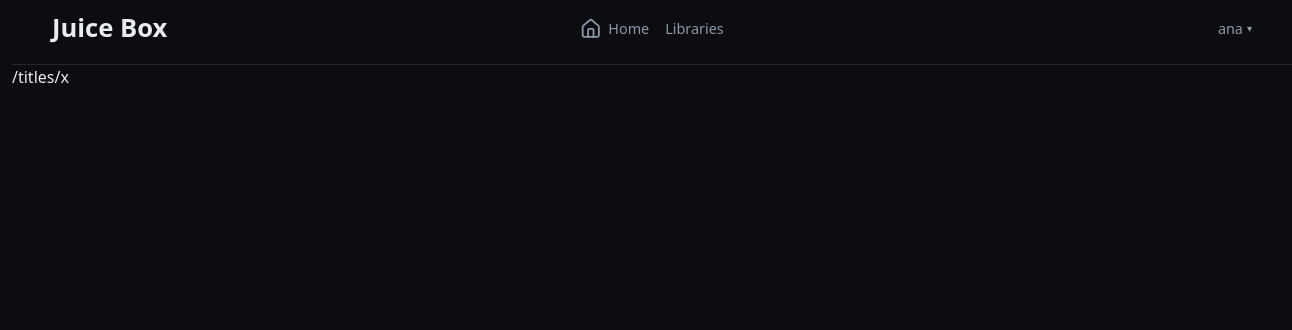
it: AppHeader switch-user roster › routes a Known entry to /login with the username pre-filled
Click the button with test id "user-menu-toggle": (1235,28) left=1218, top=18, right=1252, bottom=39
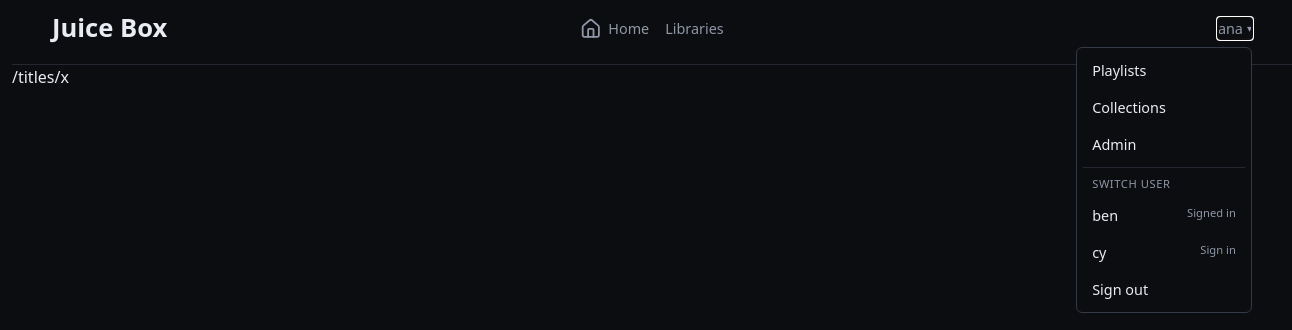
Click the menu item with test id "switch-user" showing "cy Sign in": (1164,253) left=1083, top=236, right=1245, bottom=270
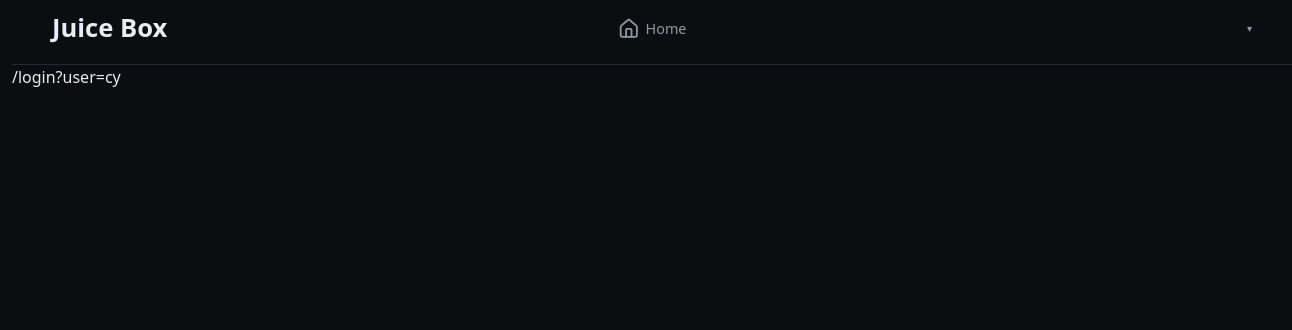
Expected: the text with test id "location" reads "/login?user=cy", left=12, top=66, right=121, bottom=88
